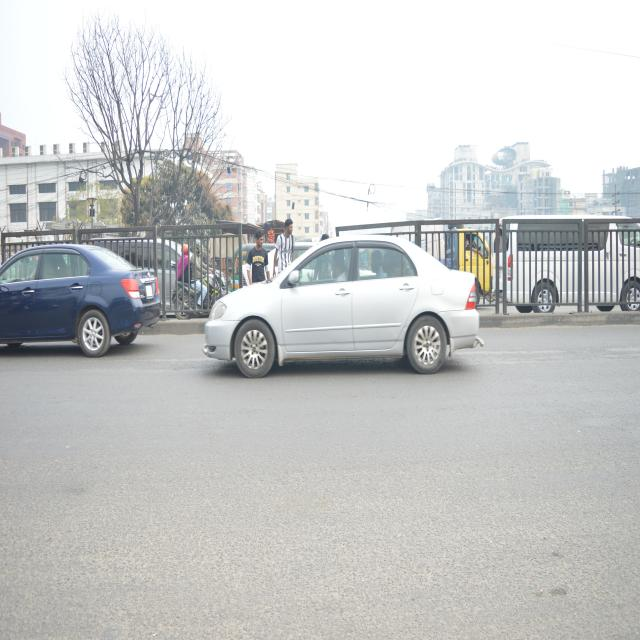car: (206, 231, 485, 383), (0, 234, 167, 370), (502, 204, 640, 320)
motorbike: (166, 262, 230, 332)
